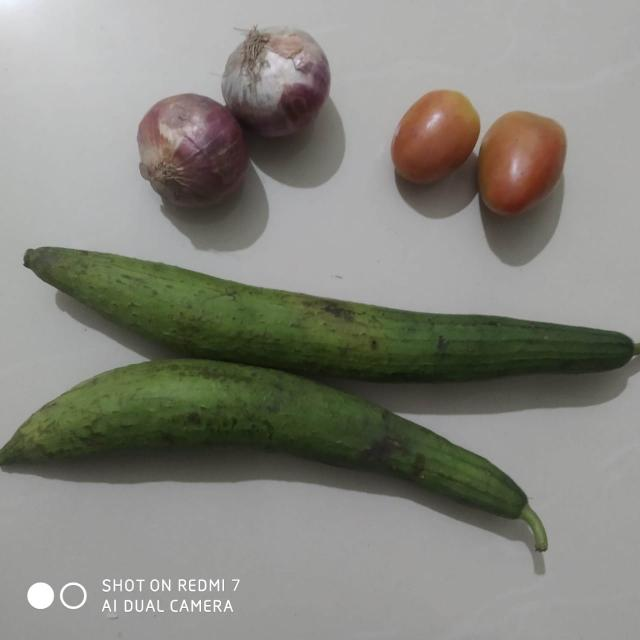Organik: (0, 248, 640, 548), (122, 95, 249, 213), (222, 25, 339, 138), (472, 108, 577, 225), (378, 90, 486, 197)
